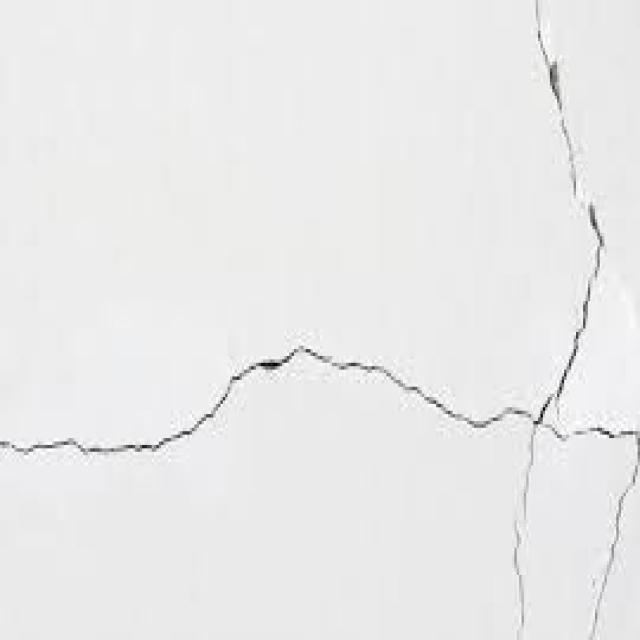Crack: (0, 335, 533, 451), (531, 0, 607, 421), (538, 414, 638, 630), (508, 417, 534, 623)
